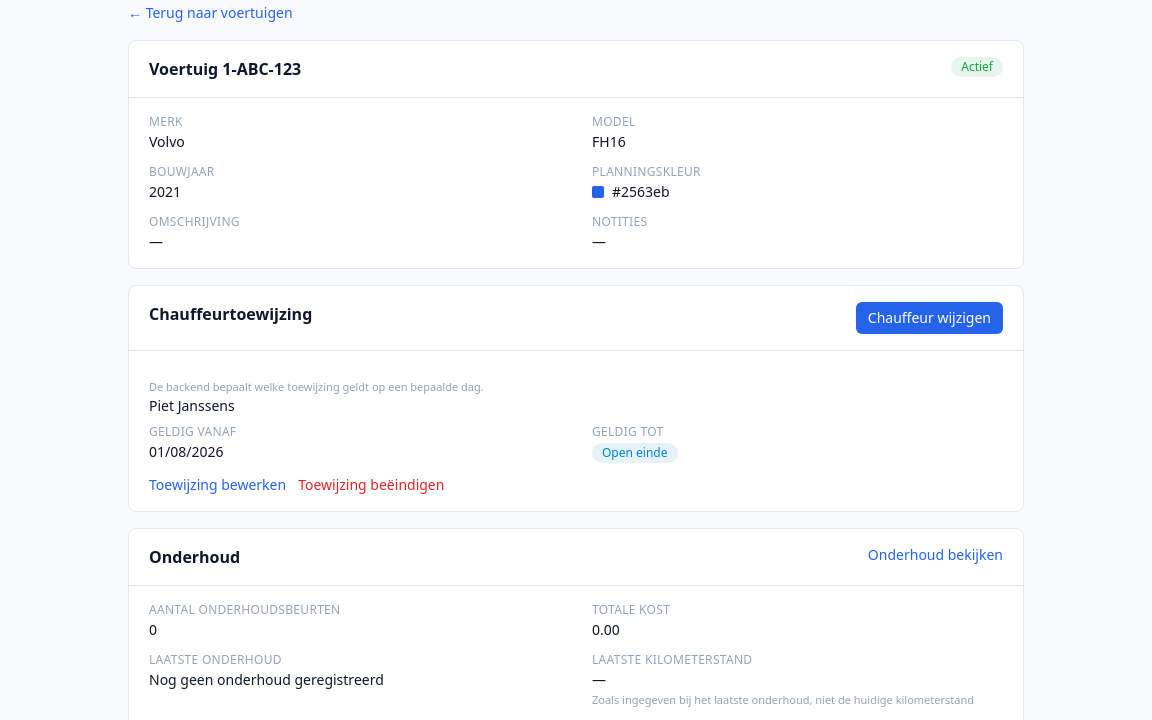
Test: changing the chauffeur of a vehicle › saving it › shows the refusal and keeps the dialog open
Click the button "Chauffeur wijzigen" at (929, 318), box [856,302,1003,334]
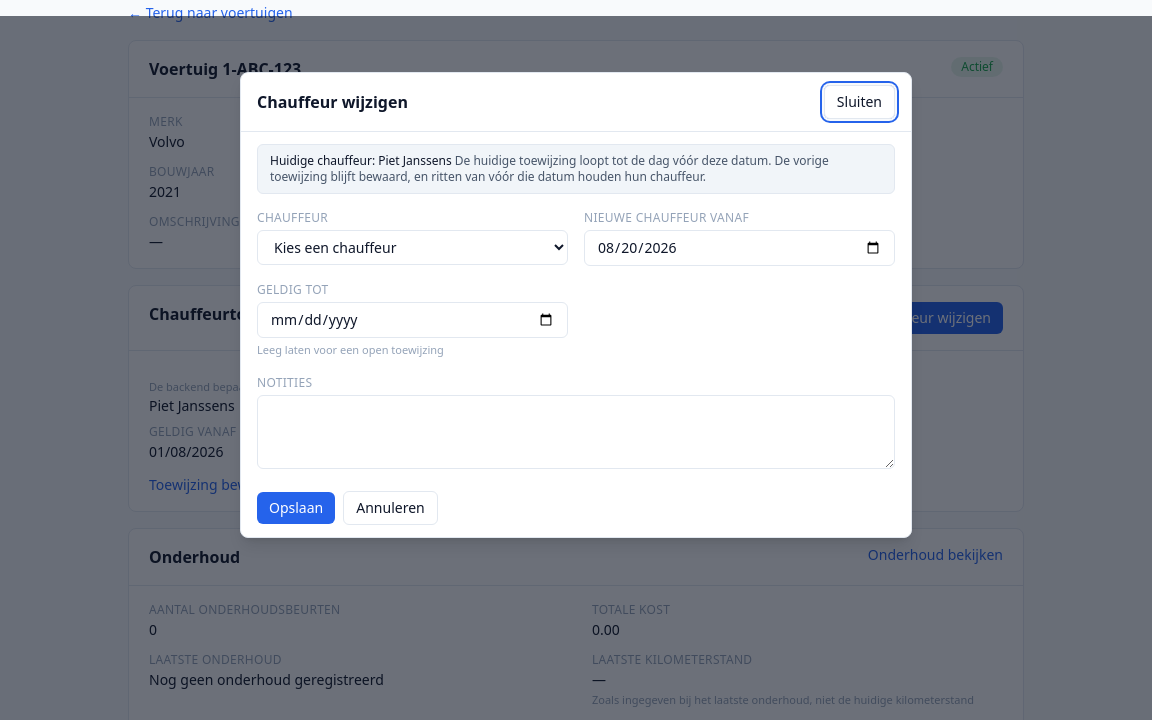
Select "Ahmet Yılmaz" in the dropdown labelled "Chauffeur" at (412, 248), box [257,230,568,265]
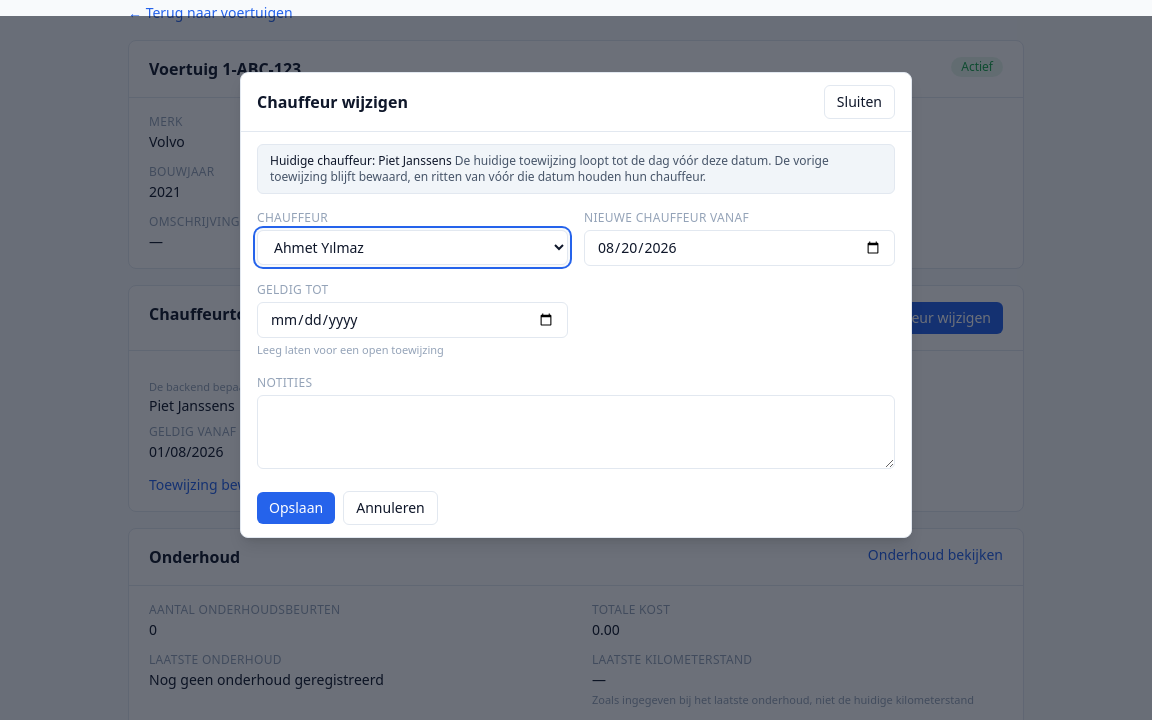
Type "2026-08-24" into the date field labelled "Nieuwe chauffeur vanaf" at (740, 248), box [584,230,895,266]
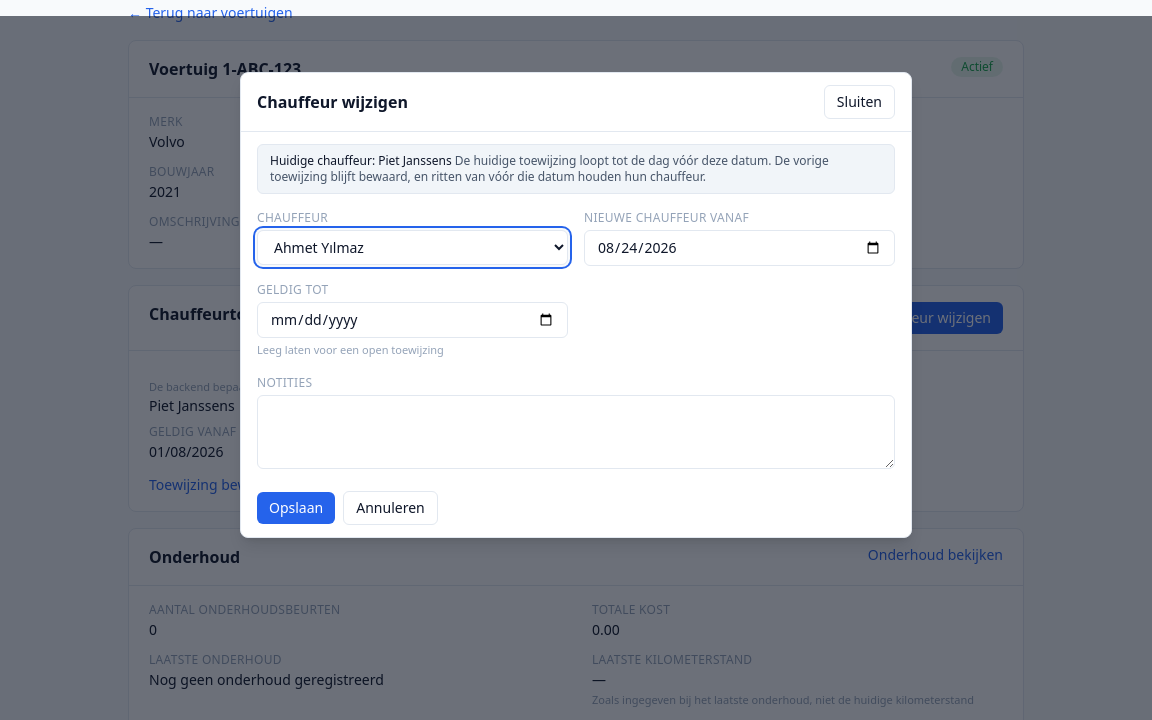
Click the button "Opslaan" at (296, 508), box [257,492,335,524]
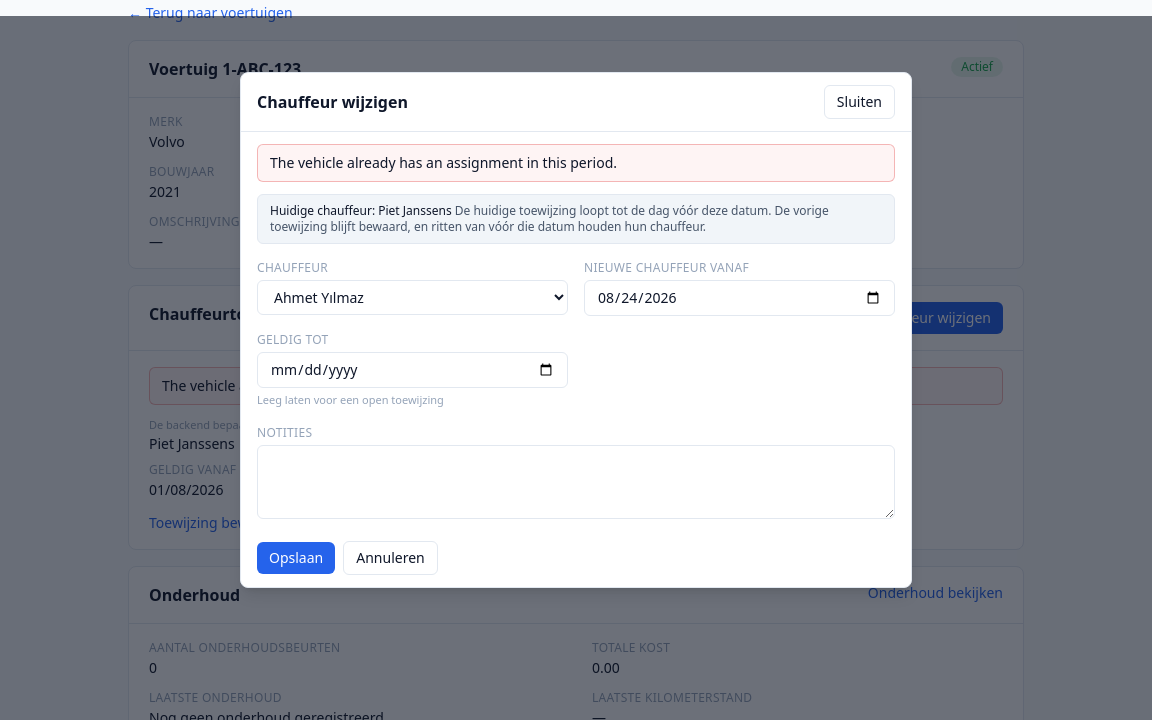
Expected: the dialog is shown, [240,72,912,588]
Expected: the text "The vehicle already has an assignment in this period." is shown, [257,144,895,182]
